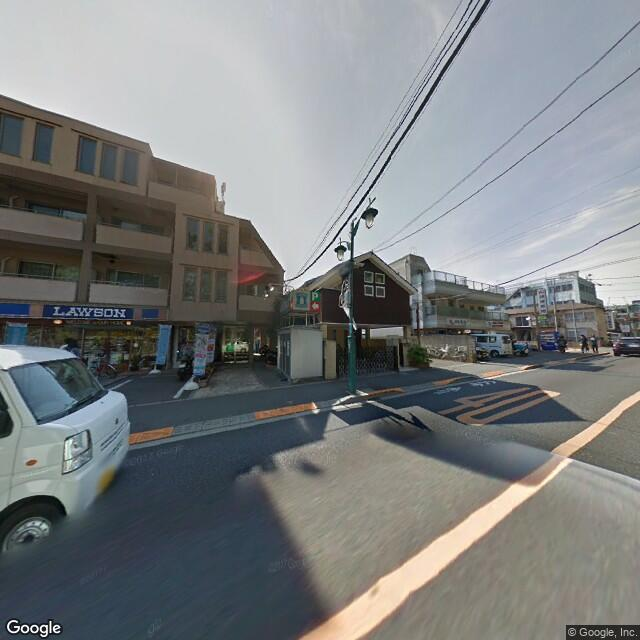lawson: (1, 299, 164, 324), (293, 289, 311, 315)
